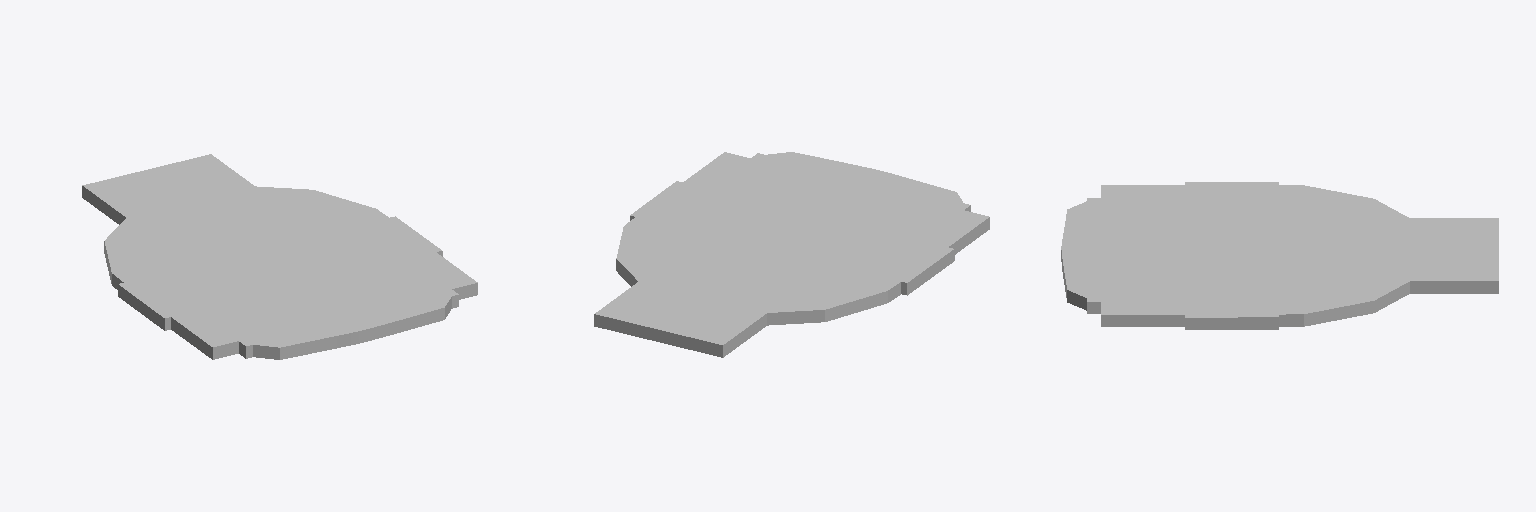
Rendered from train_v5.obj.
3 renders of one model, left to right at view 1: azimuth 30°, elevation 25°; view 2: azimuth 150°, elevation 25°; view 3: azimuth 270°, elevation 25°, orthographic.
Visible parts, largest first — view 1: Body1; view 2: Body1; view 3: Body1.
Boxes of the visible parts, box(x1,y1,x2,y2) form: Body1: box(82, 154, 477, 359); Body1: box(594, 152, 989, 357); Body1: box(1061, 182, 1498, 329).
Bounding box in the file's own units: 1164 × 50 × 1585.